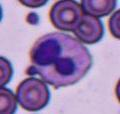N: (30, 32, 90, 86)
